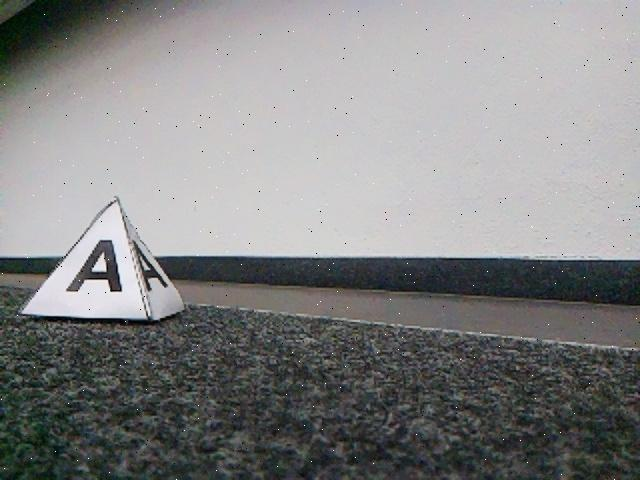A: (25, 197, 188, 320)
